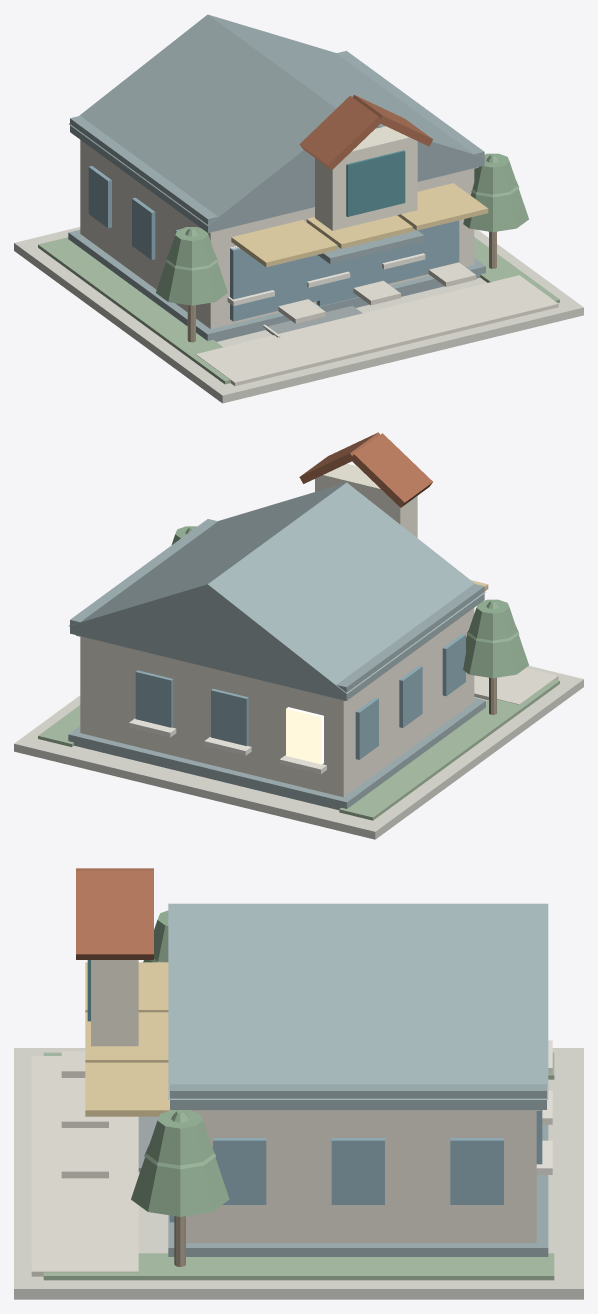
The model's file is remaster_shop_12.glb.
3 views of the same model, one above another, from view 1: azimuth 30°, elevation 25°; view 2: azimuth 150°, elevation 25°; view 3: azimuth 270°, elevation 25° (orthographic). The views are drawn at different scales.
Visible parts, largest first — view 1: remaster_shop_12 roof, remaster_shop_12 cream, remaster_shop_12 stone, remaster_shop_12 glass, remaster_shop_12 leaf, remaster_shop_12 gold, remaster_shop_12 green, Dormer face.006, Dormer glazing.006, Dormer roof.012, remaster_shop_12 white, Dormer roof.013 (+2 smaller); view 2: remaster_shop_12 roof, remaster_shop_12 cream, remaster_shop_12 stone, remaster_shop_12 glass, remaster_shop_12 green, remaster_shop_12 leaf, Dormer roof.012, Dormer face.006, remaster_shop_12 warm, remaster_shop_12 white, Dormer roof.013; view 3: remaster_shop_12 roof, remaster_shop_12 cream, remaster_shop_12 stone, remaster_shop_12 green, remaster_shop_12 glass, remaster_shop_12 gold, remaster_shop_12 leaf, Dormer roof.013, Dormer face.006, remaster_shop_12 white, remaster_shop_12 asphalt, remaster_shop_12 bark.
Boxes of the visible parts, x1,y1,x2,y2 form: remaster_shop_12 roof: (68,14,485,341); remaster_shop_12 cream: (80,140,558,386); remaster_shop_12 stone: (14,167,583,403); remaster_shop_12 glass: (88,166,459,321); remaster_shop_12 leaf: (156,153,528,305); remaster_shop_12 gold: (231,183,488,267); remaster_shop_12 green: (38,237,559,384); Dormer face.006: (315,126,417,230); Dormer glazing.006: (346,150,405,216); Dormer roof.012: (299,95,382,169); remaster_shop_12 white: (227,253,425,337); Dormer roof.013: (353,95,433,146); remaster_shop_12 roof: (68,482,485,810); remaster_shop_12 cream: (80,608,558,797); remaster_shop_12 stone: (14,635,583,839); remaster_shop_12 glass: (135,634,465,759); remaster_shop_12 green: (38,679,559,820); remaster_shop_12 leaf: (171,526,528,678); Dormer roof.012: (352,433,432,507); Dormer face.006: (315,464,417,537); remaster_shop_12 warm: (286,707,323,764); remaster_shop_12 white: (129,718,326,774); Dormer roof.013: (299,432,379,483); remaster_shop_12 roof: (168,903,548,1256); remaster_shop_12 cream: (31,1051,536,1276); remaster_shop_12 stone: (14,1048,583,1299); remaster_shop_12 green: (43,1052,554,1280); remaster_shop_12 glass: (169,1110,542,1222); remaster_shop_12 gold: (85,962,170,1116); remaster_shop_12 leaf: (131,910,229,1216); Dormer roof.013: (76,870,153,959); Dormer face.006: (91,960,138,1046); remaster_shop_12 white: (536,1040,552,1174); remaster_shop_12 asphalt: (138,1116,158,1172); remaster_shop_12 bark: (174,1216,185,1266).
Size of the model in its own units: 9.64 by 5.76 by 9.6.
